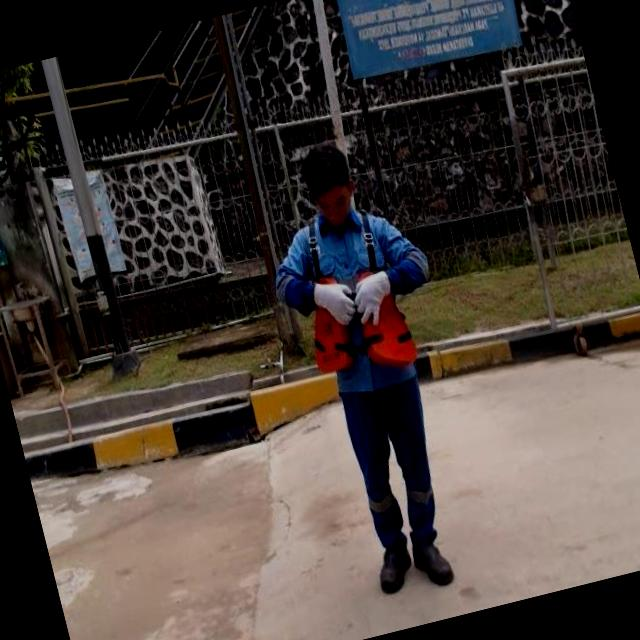boots: (362, 532, 420, 606), (406, 529, 456, 595)
gloves: (340, 254, 404, 324), (299, 261, 354, 322)
no-helmet: (270, 124, 382, 250)
vest: (276, 206, 424, 402)
